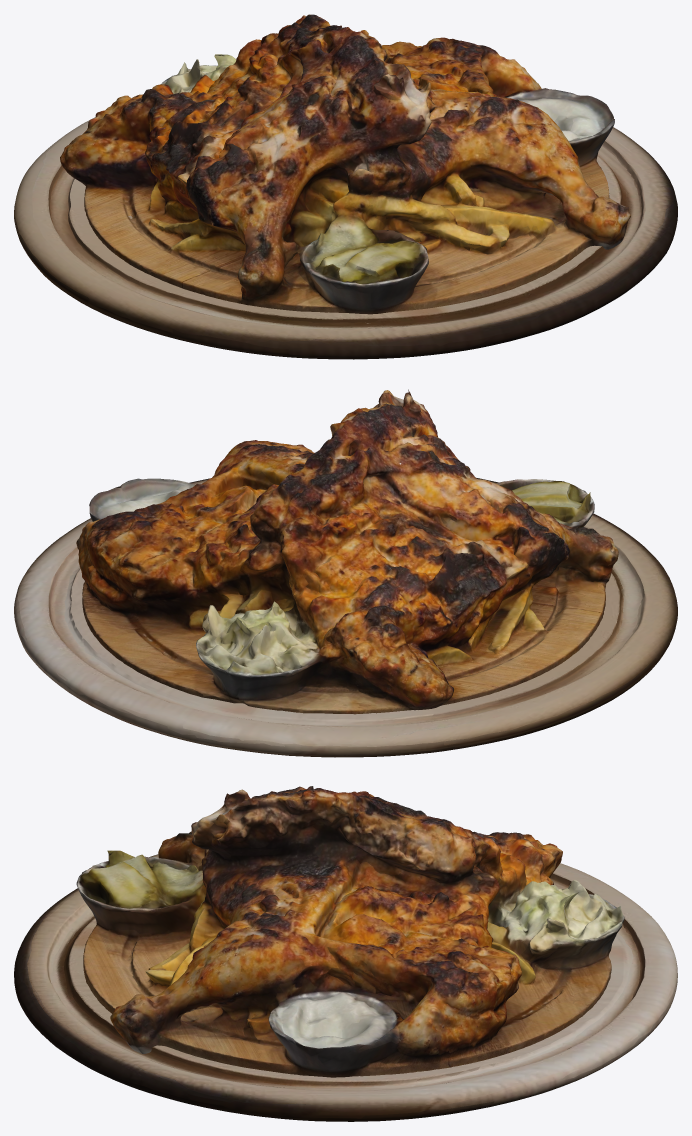
The model's file is whole.grilled.chicken.glb.
The picture shows the model from 3 angles, top to bottom: view 1: azimuth 30°, elevation 25°; view 2: azimuth 150°, elevation 25°; view 3: azimuth 270°, elevation 25°; orthographic projection.
Visible parts, largest first — view 1: /Root/Scenes/Scene/Object_37/Object_38/Submesh_0, /Root/Scenes/Scene/Object_37/Object_41/Object_42/Submesh_0; view 2: /Root/Scenes/Scene/Object_37/Object_38/Submesh_0, /Root/Scenes/Scene/Object_37/Object_41/Object_42/Submesh_0; view 3: /Root/Scenes/Scene/Object_37/Object_38/Submesh_0, /Root/Scenes/Scene/Object_37/Object_41/Object_42/Submesh_0.
Boxes of the visible parts, x1,y1,x2,y2 form: /Root/Scenes/Scene/Object_37/Object_38/Submesh_0: (60,14,630,314); /Root/Scenes/Scene/Object_37/Object_41/Object_42/Submesh_0: (14,117,677,359); /Root/Scenes/Scene/Object_37/Object_38/Submesh_0: (76,389,618,714); /Root/Scenes/Scene/Object_37/Object_41/Object_42/Submesh_0: (14,478,677,757); /Root/Scenes/Scene/Object_37/Object_38/Submesh_0: (76,786,624,1077); /Root/Scenes/Scene/Object_37/Object_41/Object_42/Submesh_0: (14,854,677,1121).
Size of the model in its own units: 0.3602 by 0.1184 by 0.3602.
Materials: 2 (2 with a texture image).
